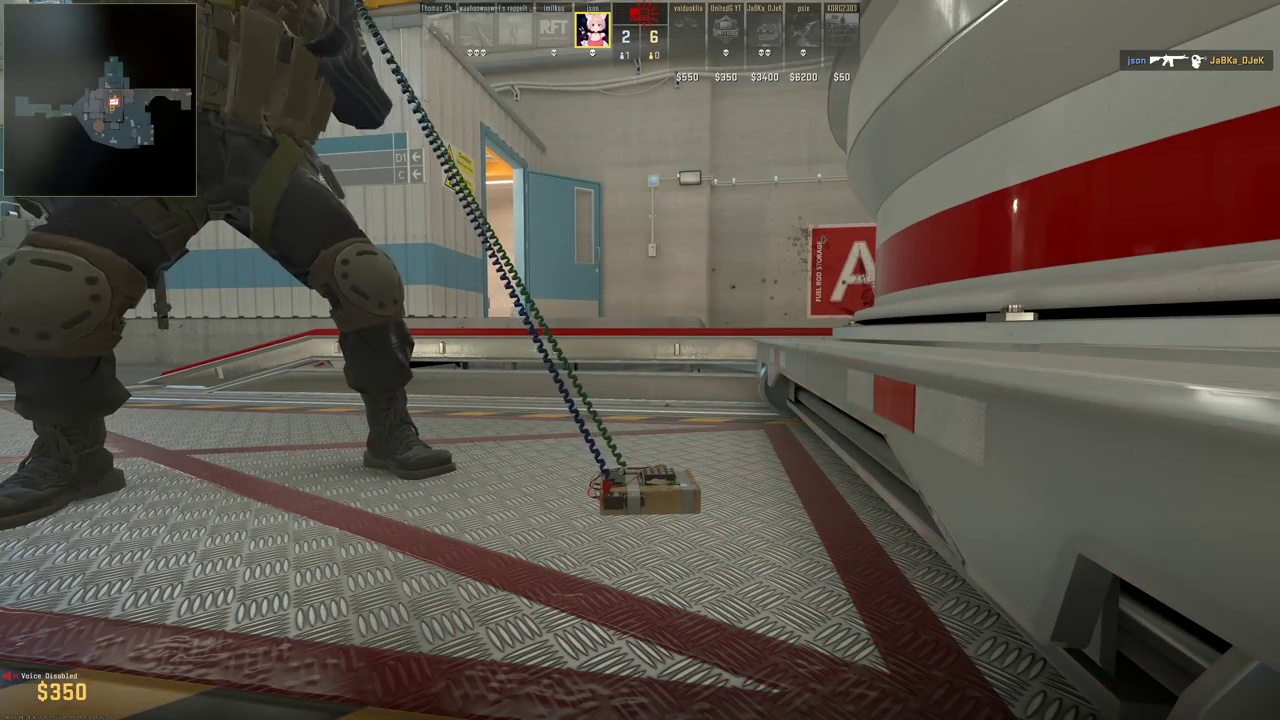CT: (0, 0, 452, 524)
